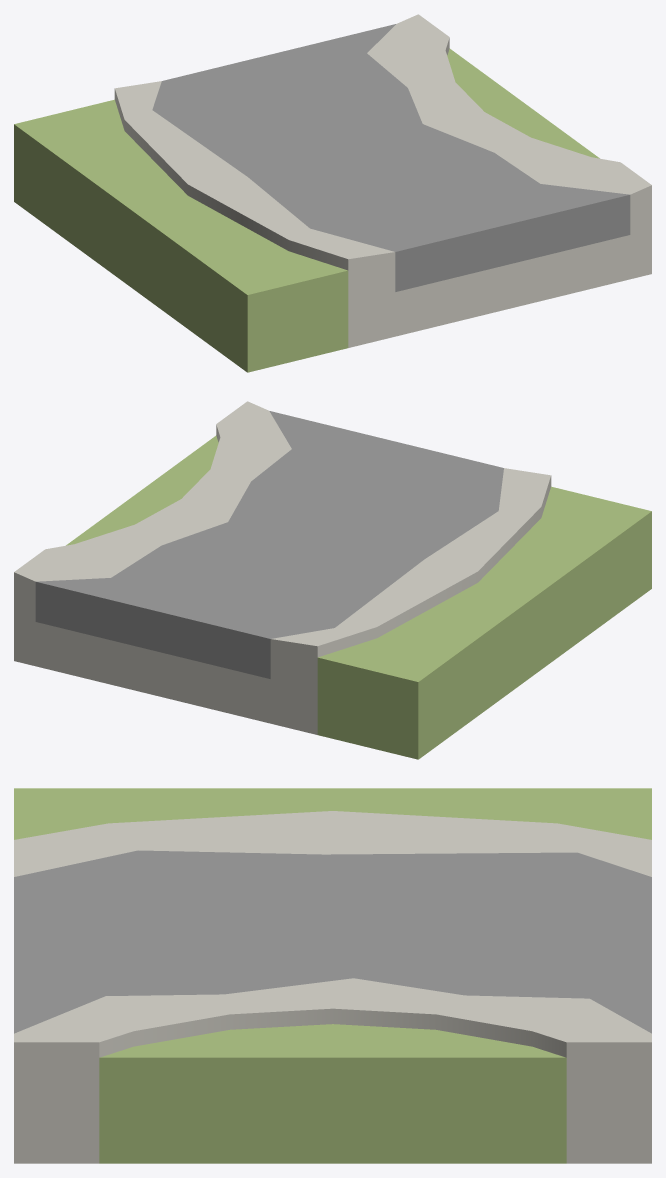
File: SM_ROAD_03.fbx
3 views of the same model, one above another, from view 1: azimuth 30°, elevation 25°; view 2: azimuth 150°, elevation 25°; view 3: azimuth 270°, elevation 25° (orthographic). The views are drawn at different scales.
Parts seen in each view (by area): view 1: ROAD_03; view 2: ROAD_03; view 3: ROAD_03.
Part boxes in pixels (<box>): ROAD_03: <box>14,14,651,372</box>; ROAD_03: <box>14,401,651,759</box>; ROAD_03: <box>14,788,651,1163</box>.
Bounding box in the file's own units: 437 × 91.85 × 437.
